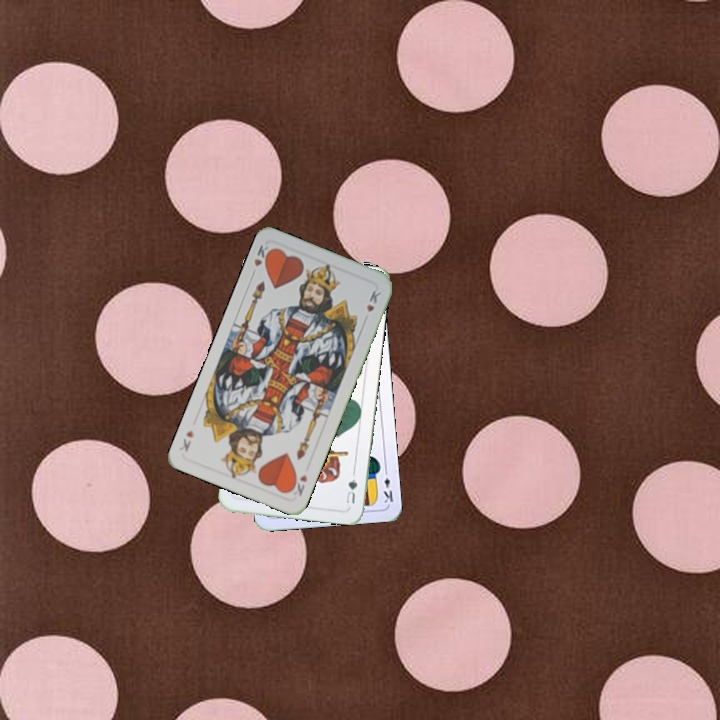EK: (380, 465, 396, 506)
GU: (342, 475, 360, 506)
HK: (247, 240, 275, 279), (286, 470, 310, 500)
